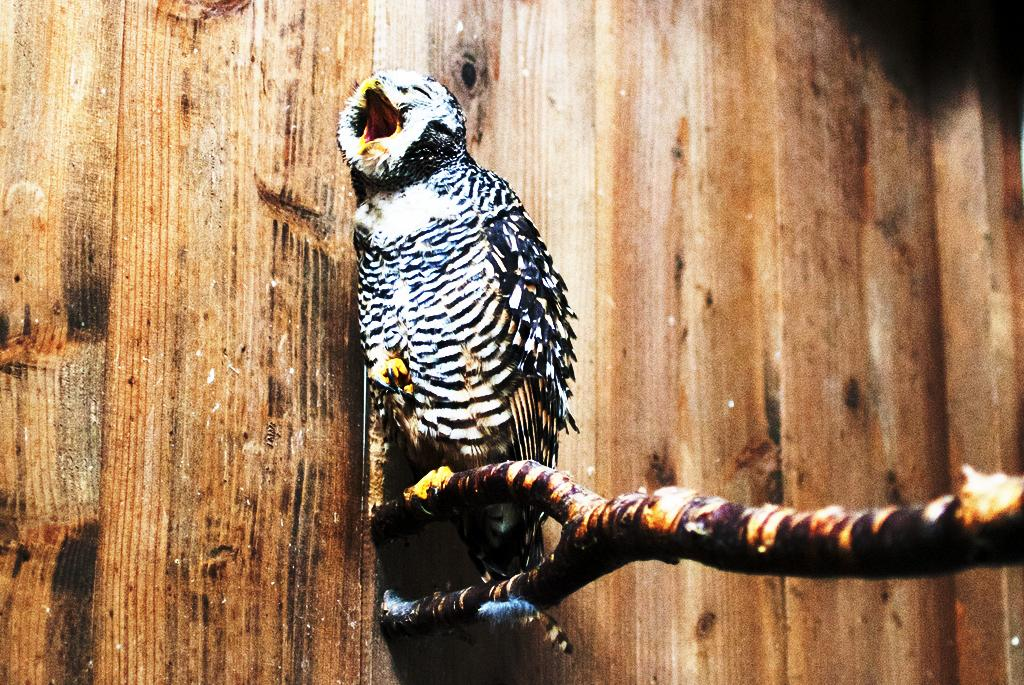Owl: (335, 65, 588, 626)
